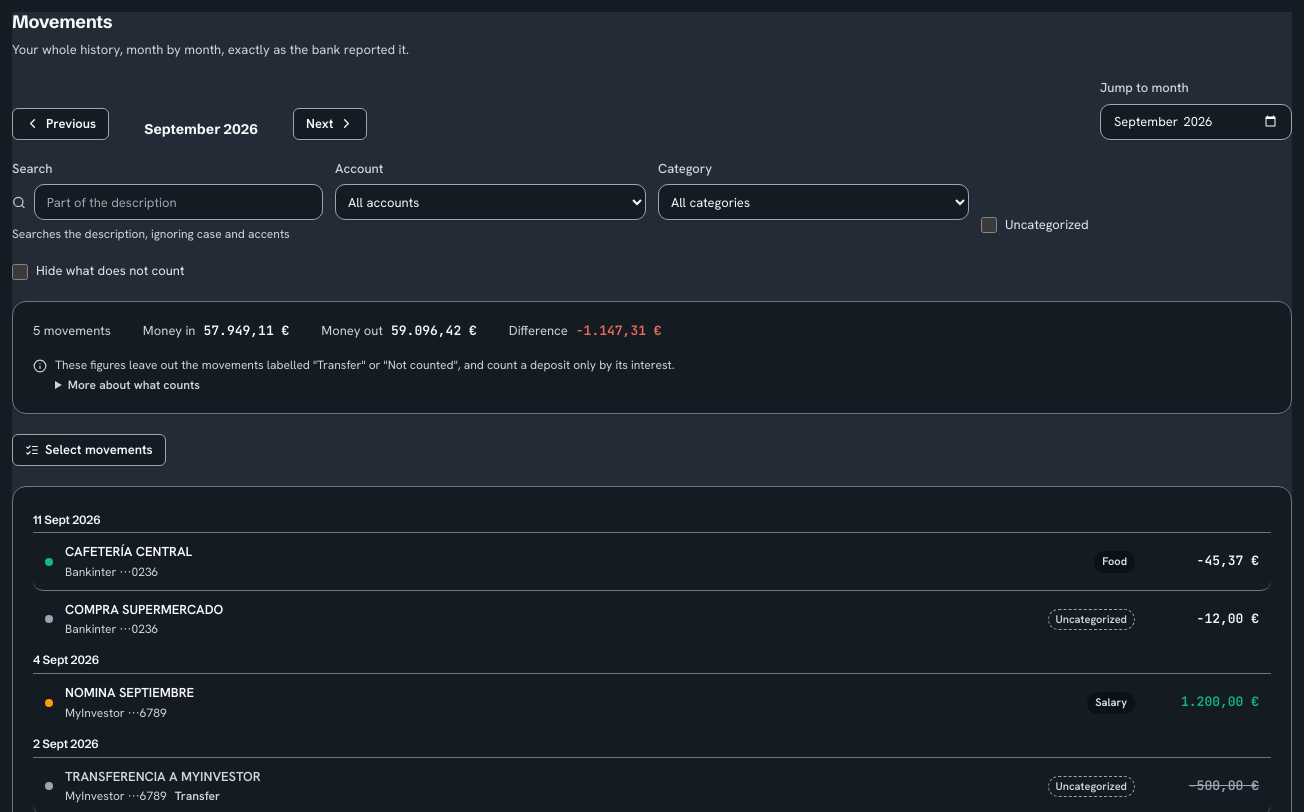
Test: StatementView › correcting a category from the screen (feature 21) › shows no selector until the badge is pressed, and then only one (R2, R3)
The width and height of the screenshot is (1304, 812).
Click the button with test id "statement-row-category-button" showing "Food" at (1115, 562), box [1094, 550, 1135, 573]
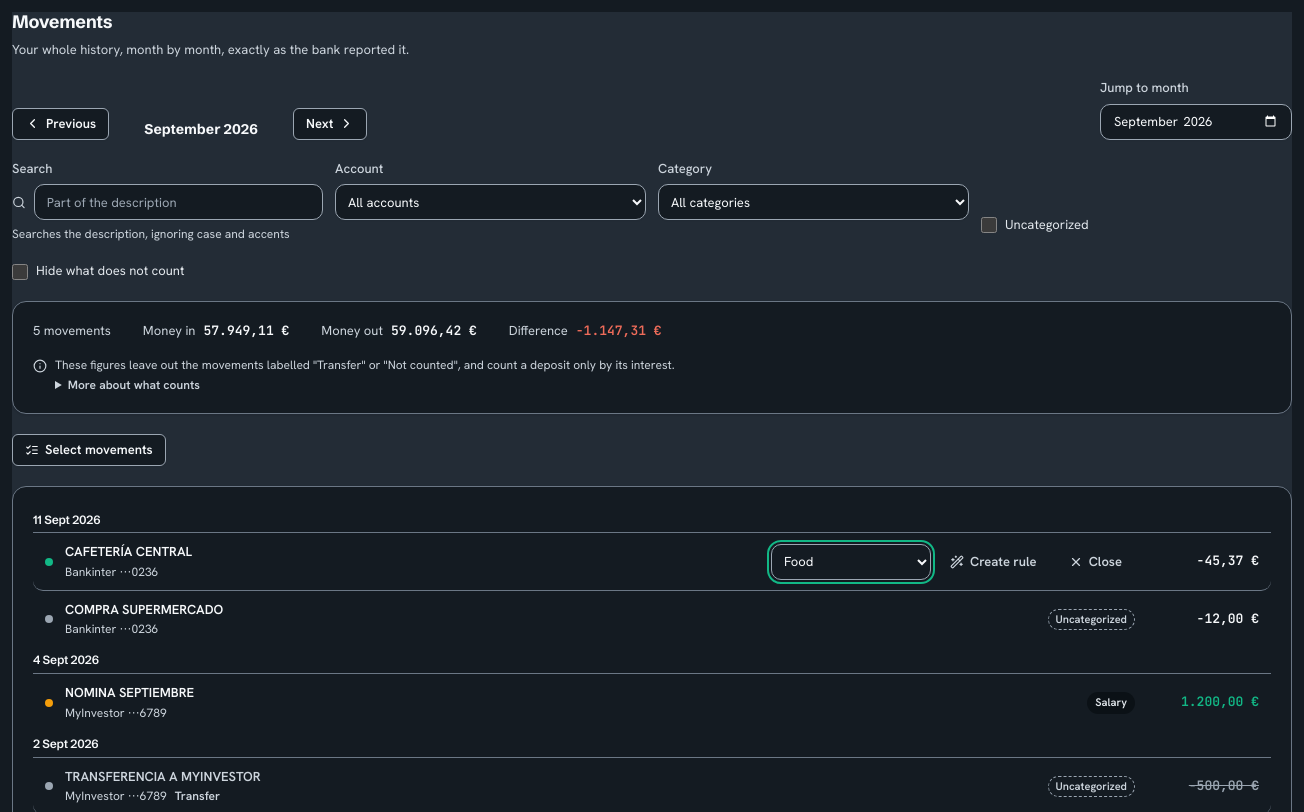
Now the number of elements with test id "row-category-editor" is 1, box [771, 544, 1135, 580]
Now the number of dropdowns is 3, box [335, 184, 646, 220]; [658, 184, 969, 220]; [771, 544, 931, 580]
